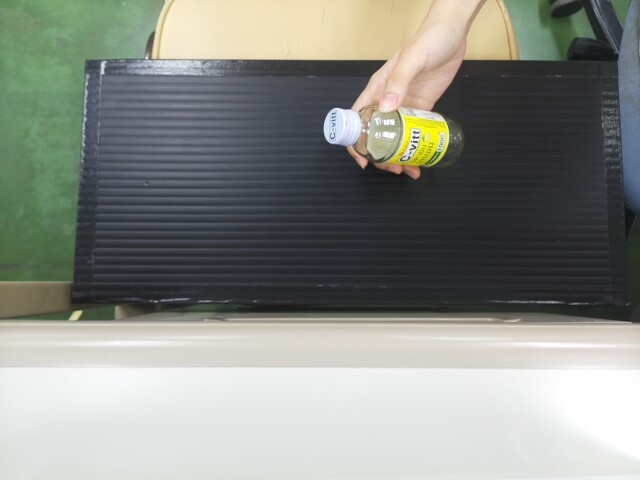glass_bottle: (318, 100, 464, 169)
